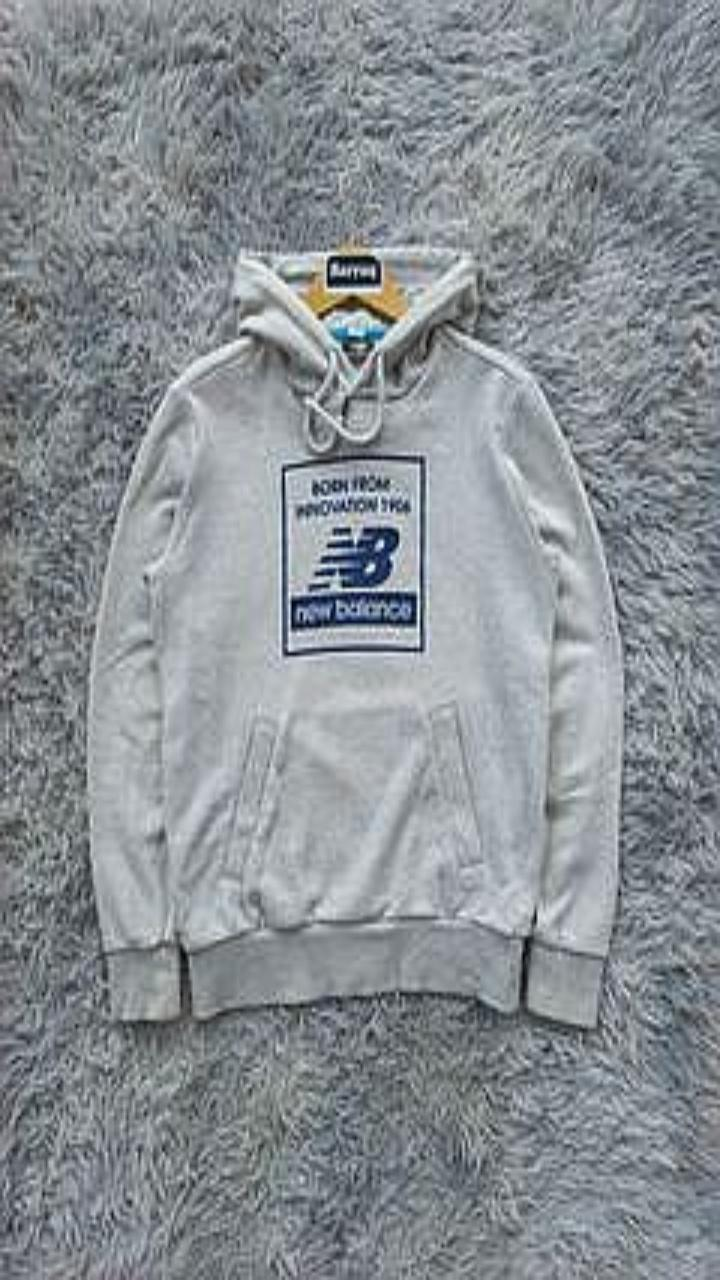Hoodie: (87, 246, 622, 1025)
